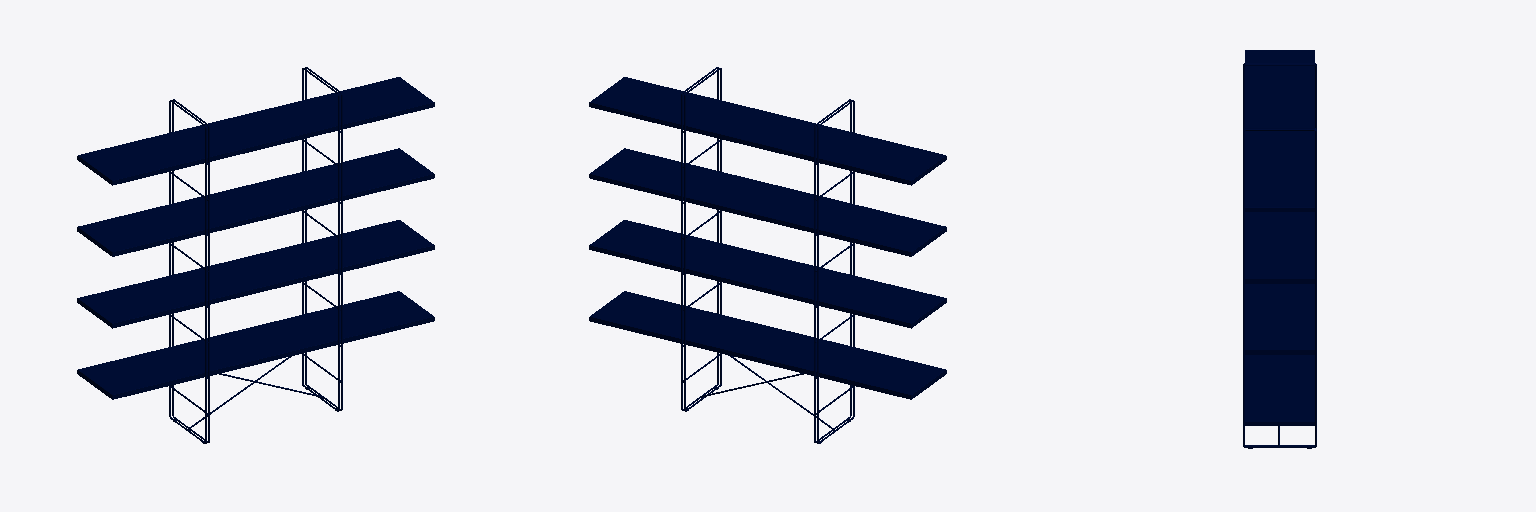
3 renders of one model, left to right at view 1: azimuth 30°, elevation 25°; view 2: azimuth 150°, elevation 25°; view 3: azimuth 270°, elevation 25°, orthographic.
Visible parts, largest first — view 1: 货架2; view 2: 货架2; view 3: 货架2.
Boxes of the visible parts, box(x1,y1,x2,y2) form: 货架2: box(77, 67, 434, 443); 货架2: box(589, 67, 946, 443); 货架2: box(1243, 50, 1316, 448).
Bounding box in the file's own units: 4.18 × 3.97 × 0.8317.